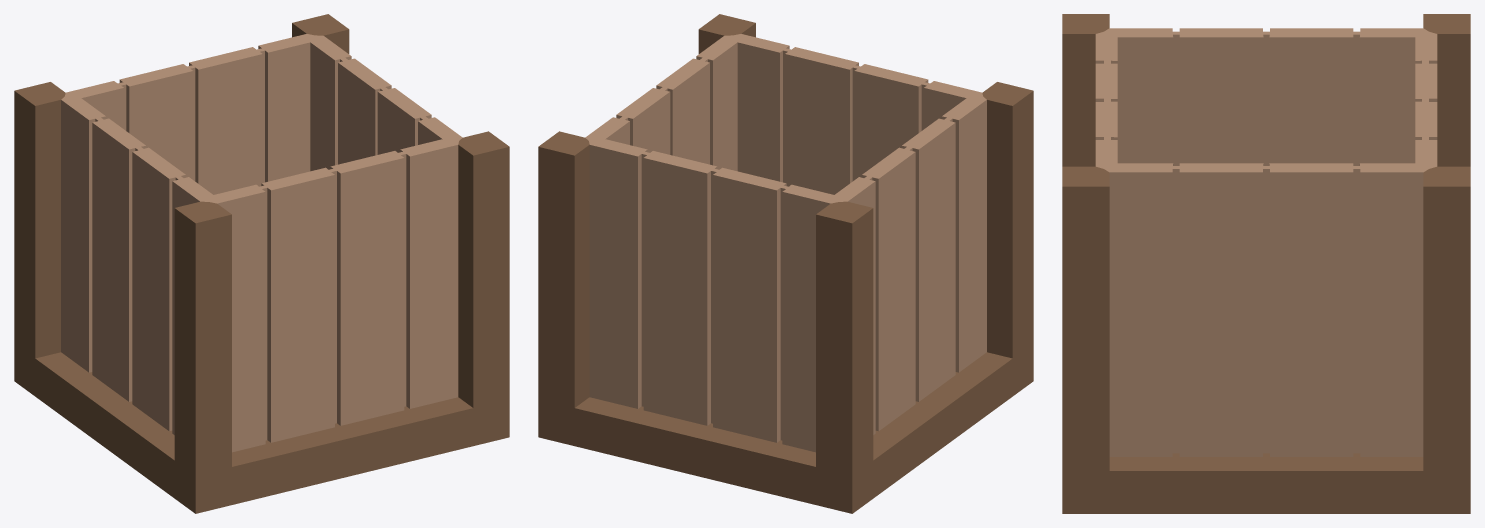
Rendered from Wood Medium Crate Open.fbx.
3 views of the same model, side by side, from view 1: azimuth 30°, elevation 25°; view 2: azimuth 150°, elevation 25°; view 3: azimuth 270°, elevation 25° (orthographic). The views are drawn at different scales.
Parts seen in each view (by area): view 1: Wooden_Crate_Medium_Open; view 2: Wooden_Crate_Medium_Open; view 3: Wooden_Crate_Medium_Open.
Boxes of the visible parts, x1,y1,x2,y2 form: Wooden_Crate_Medium_Open: [14, 14, 509, 513]; Wooden_Crate_Medium_Open: [538, 14, 1033, 513]; Wooden_Crate_Medium_Open: [1062, 14, 1470, 513].
Bounding box in the file's own units: 113 × 99.71 × 113.
